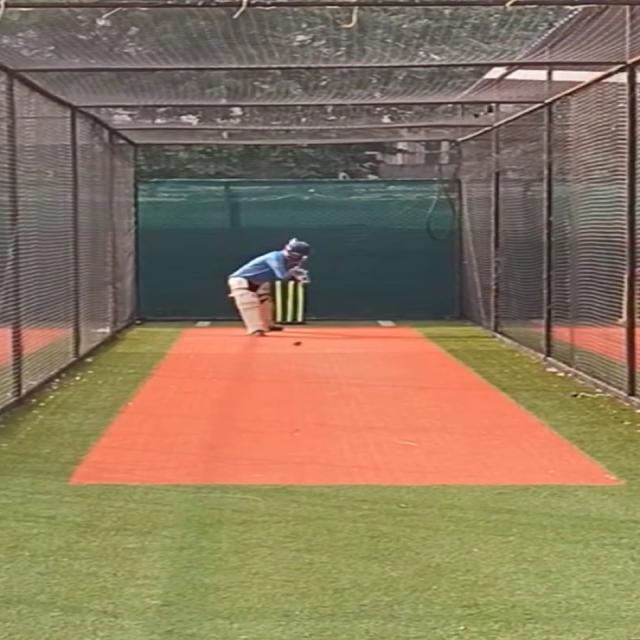ball: (290, 339, 308, 348)
stump: (274, 279, 308, 324)
